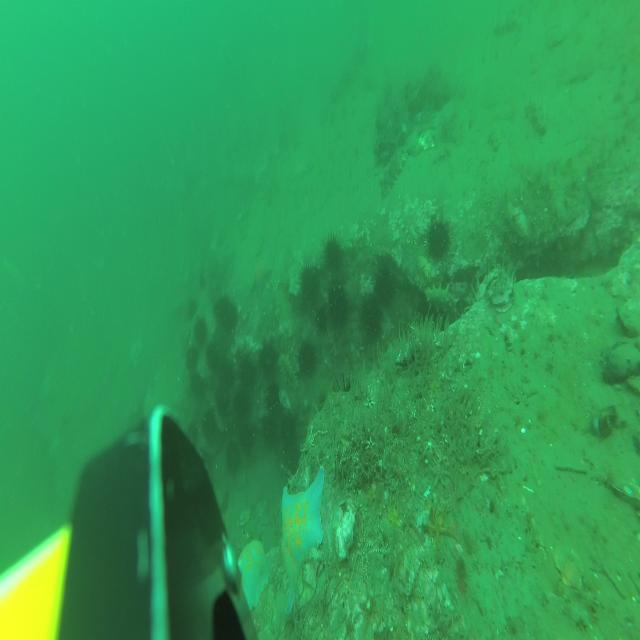echinus: (424, 213, 452, 266), (360, 293, 382, 346), (333, 373, 358, 419), (322, 231, 345, 277), (372, 261, 394, 309), (299, 261, 322, 306), (279, 410, 297, 450), (331, 287, 348, 328), (299, 340, 317, 377), (232, 394, 249, 428), (238, 357, 256, 389), (261, 412, 277, 448), (260, 339, 276, 374), (314, 301, 329, 335), (216, 291, 230, 324), (216, 386, 230, 418), (223, 304, 238, 333), (224, 442, 238, 472), (266, 379, 280, 409), (190, 372, 204, 400), (203, 411, 216, 441), (195, 316, 207, 347), (185, 345, 199, 371), (185, 420, 198, 447), (206, 341, 218, 369), (240, 423, 252, 450), (221, 361, 233, 386), (188, 299, 200, 323)
holothurian: (380, 149, 406, 199), (425, 284, 459, 322), (492, 14, 522, 37), (527, 102, 547, 136), (280, 355, 298, 389), (487, 130, 501, 154), (271, 502, 285, 525)
scallop: (553, 544, 584, 588), (420, 130, 438, 152), (234, 469, 247, 492), (238, 507, 251, 525)
starfish: (281, 463, 325, 616), (237, 537, 270, 615), (423, 507, 457, 555), (250, 255, 272, 299), (388, 498, 401, 530), (366, 483, 380, 508)
